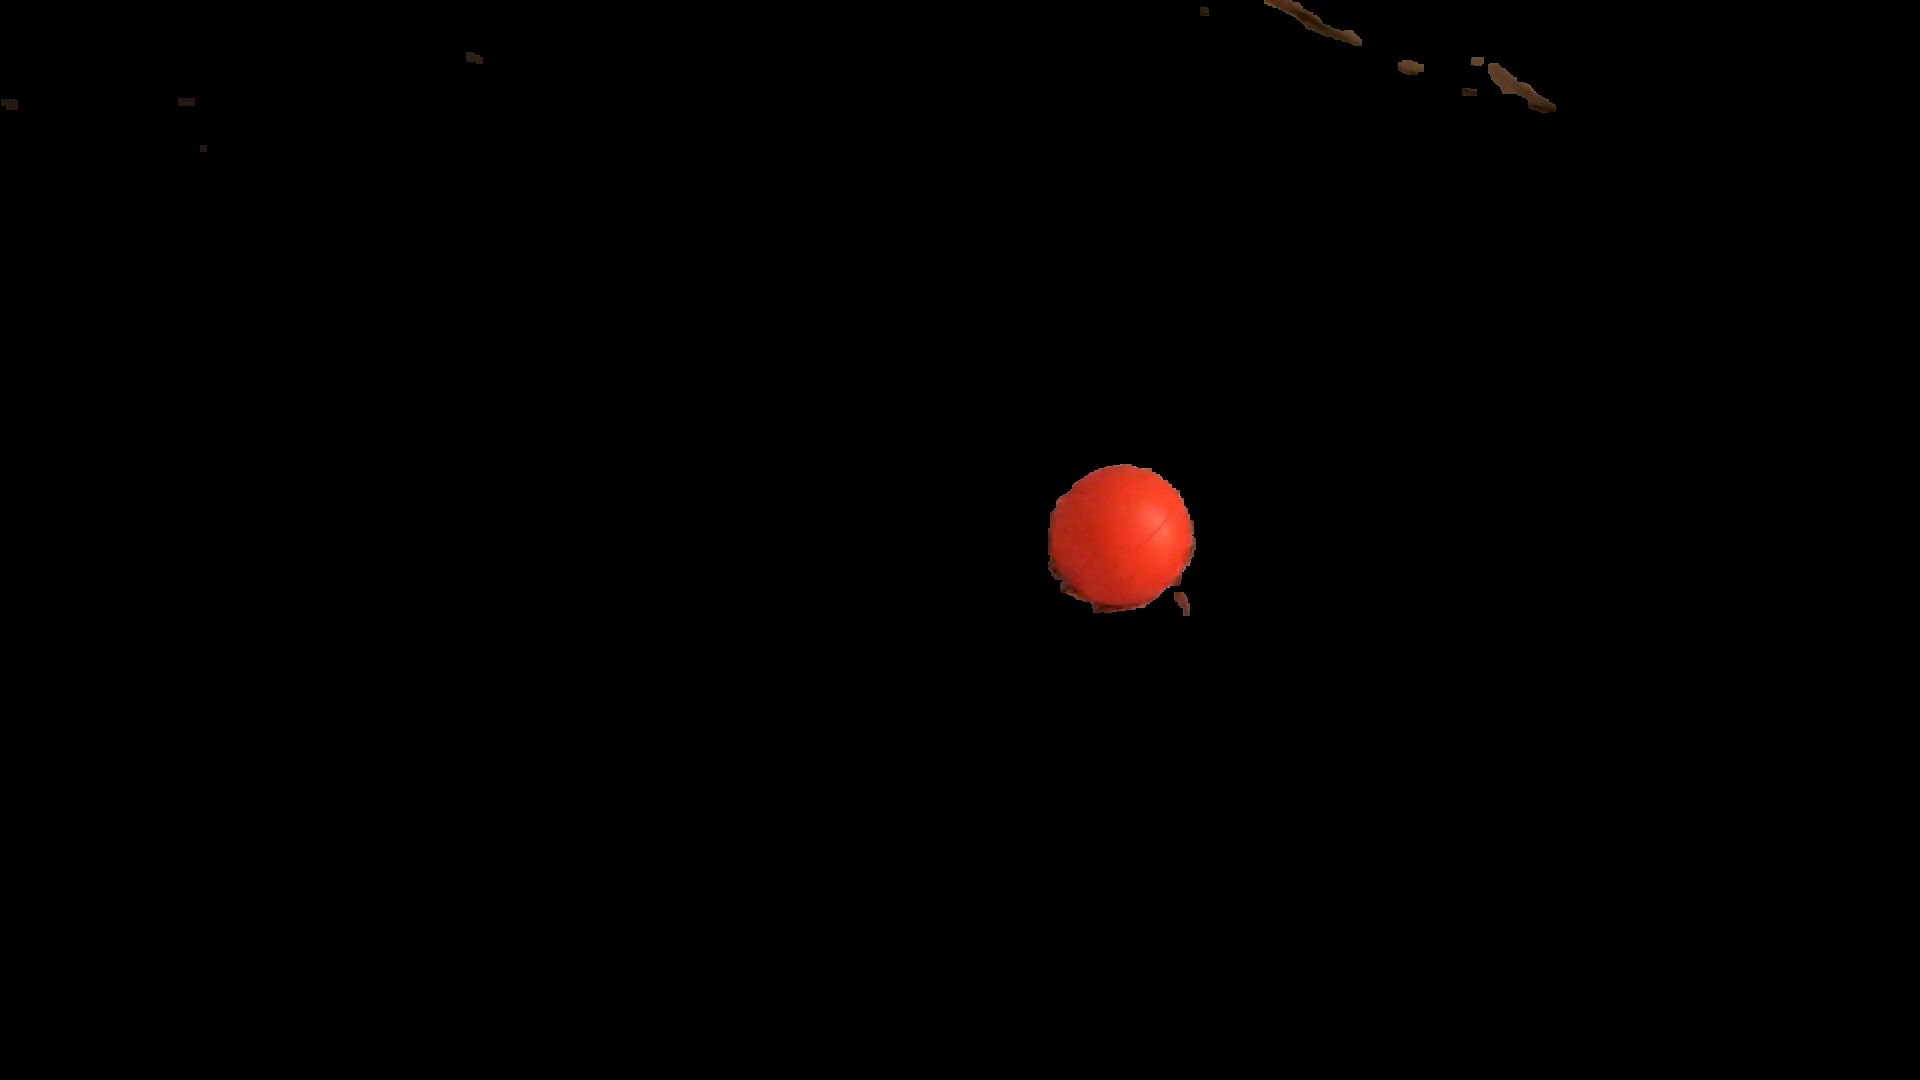Ball: (1050, 465, 1192, 609)
